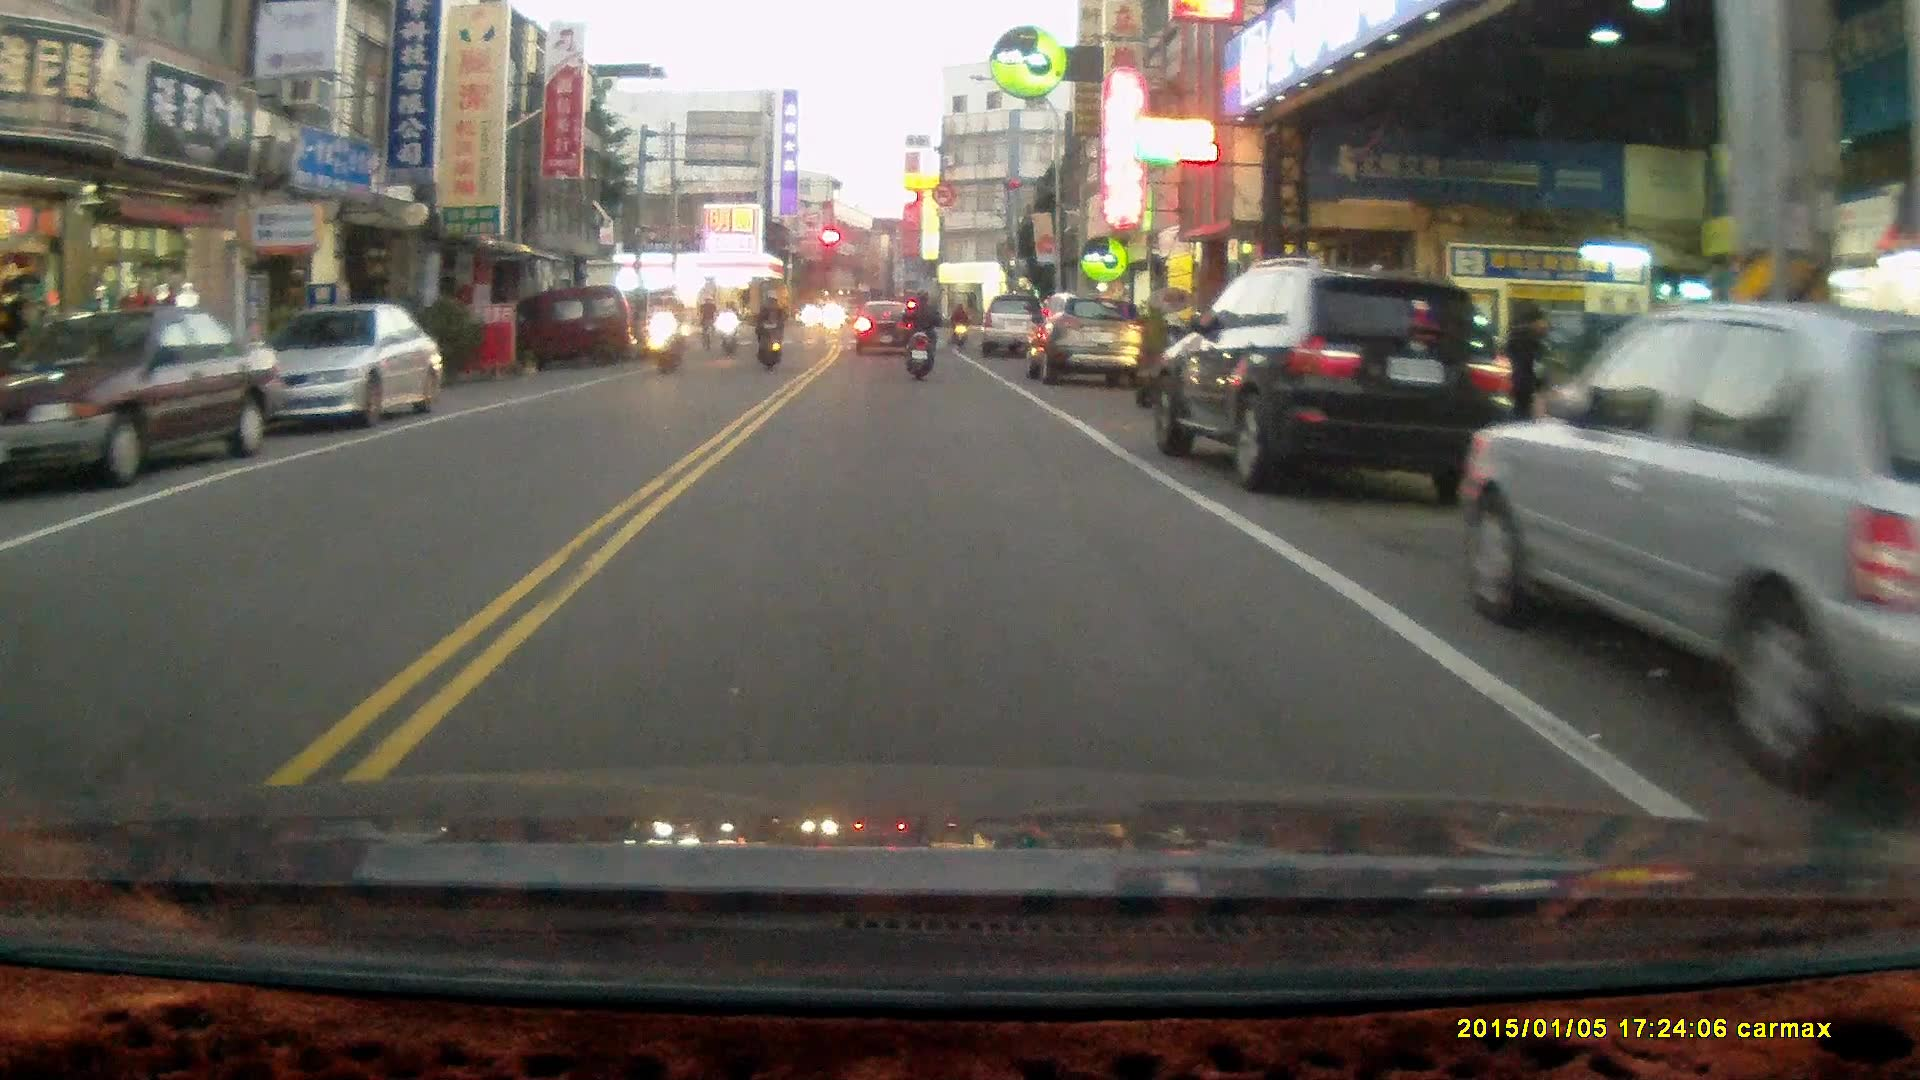pedestrian: (1504, 308, 1548, 458)
rider: (898, 288, 939, 380), (650, 291, 682, 375), (753, 291, 784, 371), (715, 295, 739, 353), (695, 291, 717, 352), (946, 298, 968, 344)
vehicle: (1459, 300, 1920, 795), (1157, 256, 1512, 497), (6, 303, 292, 494), (241, 302, 446, 432), (1023, 293, 1145, 381), (539, 284, 647, 360), (977, 290, 1058, 359)
